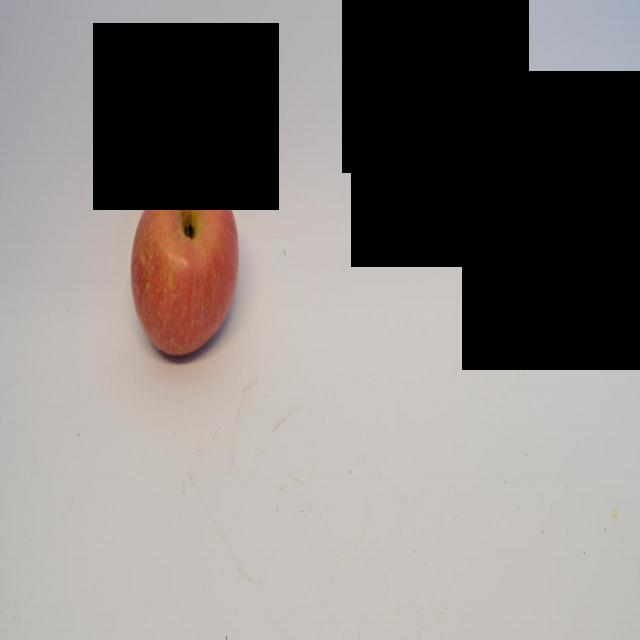apple: (130, 170, 242, 365)
